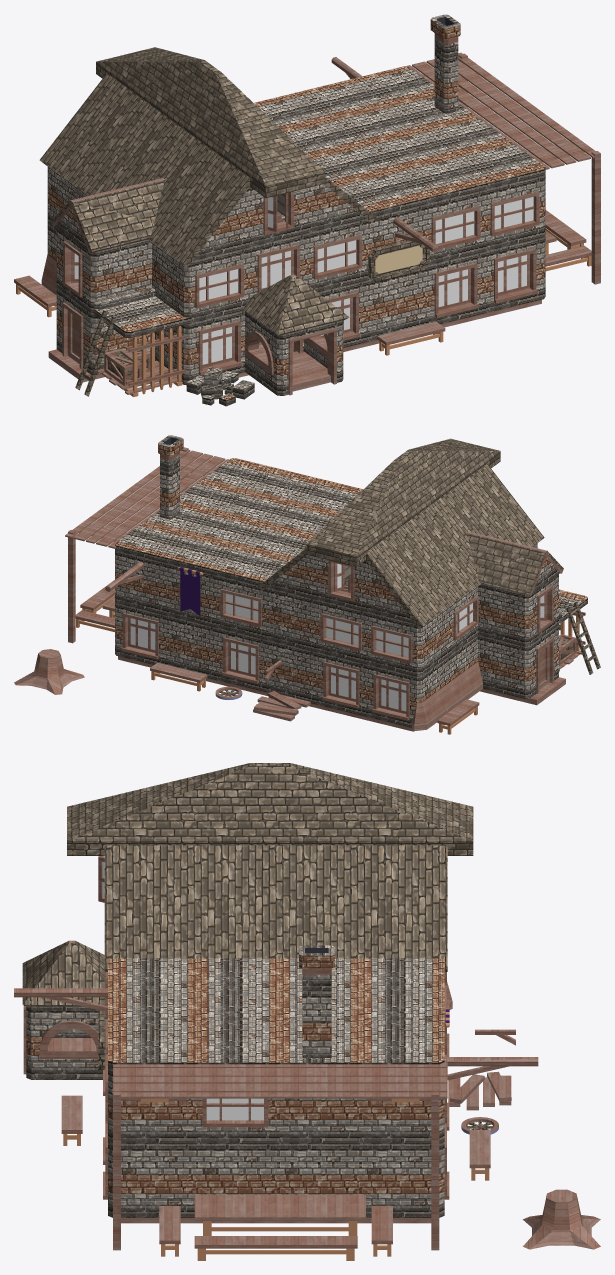
The model's file is tavern.fbx.
3 renders of one model, top to bottom at view 1: azimuth 30°, elevation 25°; view 2: azimuth 150°, elevation 25°; view 3: azimuth 270°, elevation 25°, orthographic. The views are drawn at different scales.
Parts seen in each view (by area): view 1: mergedBlocks; view 2: mergedBlocks; view 3: mergedBlocks.
Boxes of the visible parts, x1,y1,x2,y2 form: mergedBlocks: [14, 14, 600, 406]; mergedBlocks: [14, 435, 600, 734]; mergedBlocks: [14, 763, 600, 1260].
Bounding box in the file's own units: 88.55 × 41 × 71.93.
Materials: 13 (6 with a texture image).
